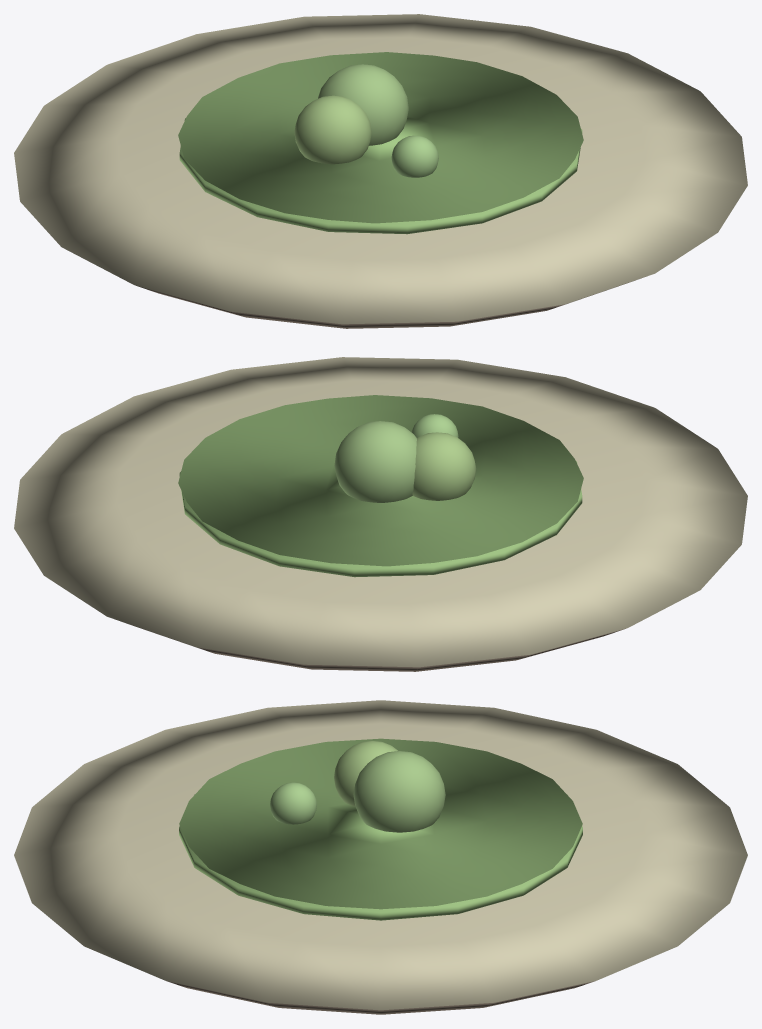
Rendered from terrain_island_03.glb.
3 views of the same model, one above another, from view 1: azimuth 30°, elevation 25°; view 2: azimuth 150°, elevation 25°; view 3: azimuth 270°, elevation 25° (orthographic).
Visible parts, largest first — view 1: island_sand, island_grass_dome, island_grass_base, hill2, hill1, island_base, hill0; view 2: island_sand, island_grass_dome, hill1, island_grass_base, hill2, island_base, hill0; view 3: island_sand, island_grass_dome, hill1, island_grass_base, island_base, hill2, hill0.
Part boxes in pixels (x1=…): island_sand: x1=14, y1=14, x2=747, y2=324; island_grass_dome: x1=178, y1=52, x2=583, y2=223; island_grass_base: x1=179, y1=118, x2=582, y2=234; hill2: x1=294, y1=95, x2=371, y2=164; hill1: x1=318, y1=64, x2=408, y2=145; island_base: x1=136, y1=278, x2=641, y2=328; hill0: x1=391, y1=135, x2=438, y2=177; island_sand: x1=14, y1=357, x2=747, y2=667; island_grass_dome: x1=178, y1=395, x2=583, y2=566; hill1: x1=334, y1=421, x2=416, y2=502; island_grass_base: x1=179, y1=461, x2=582, y2=577; hill2: x1=412, y1=432, x2=476, y2=500; island_base: x1=120, y1=621, x2=625, y2=671; hill0: x1=411, y1=414, x2=458, y2=437; island_sand: x1=14, y1=700, x2=747, y2=1010; island_grass_dome: x1=179, y1=738, x2=582, y2=909; hill1: x1=353, y1=751, x2=445, y2=832; island_grass_base: x1=179, y1=794, x2=582, y2=920; island_base: x1=166, y1=981, x2=595, y2=1014; hill2: x1=334, y1=740, x2=397, y2=806; hill0: x1=270, y1=782, x2=316, y2=824.
Size of the model in its own units: 200 by 34.74 by 200.
